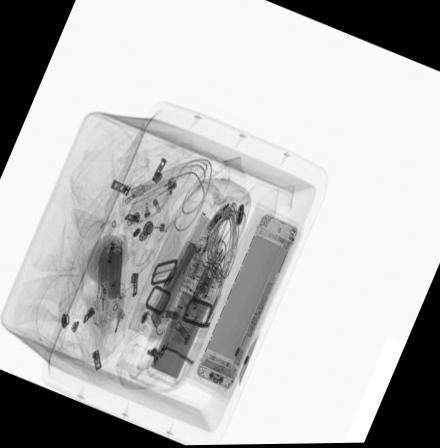Lighter: (192, 251, 224, 304)
